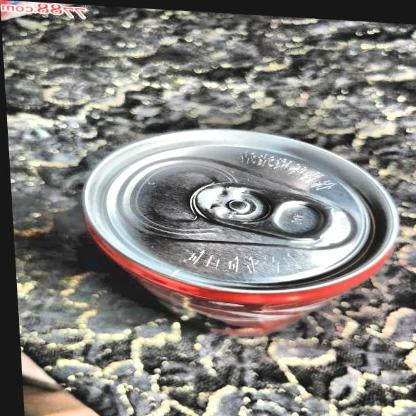Can: (71, 115, 404, 346)
